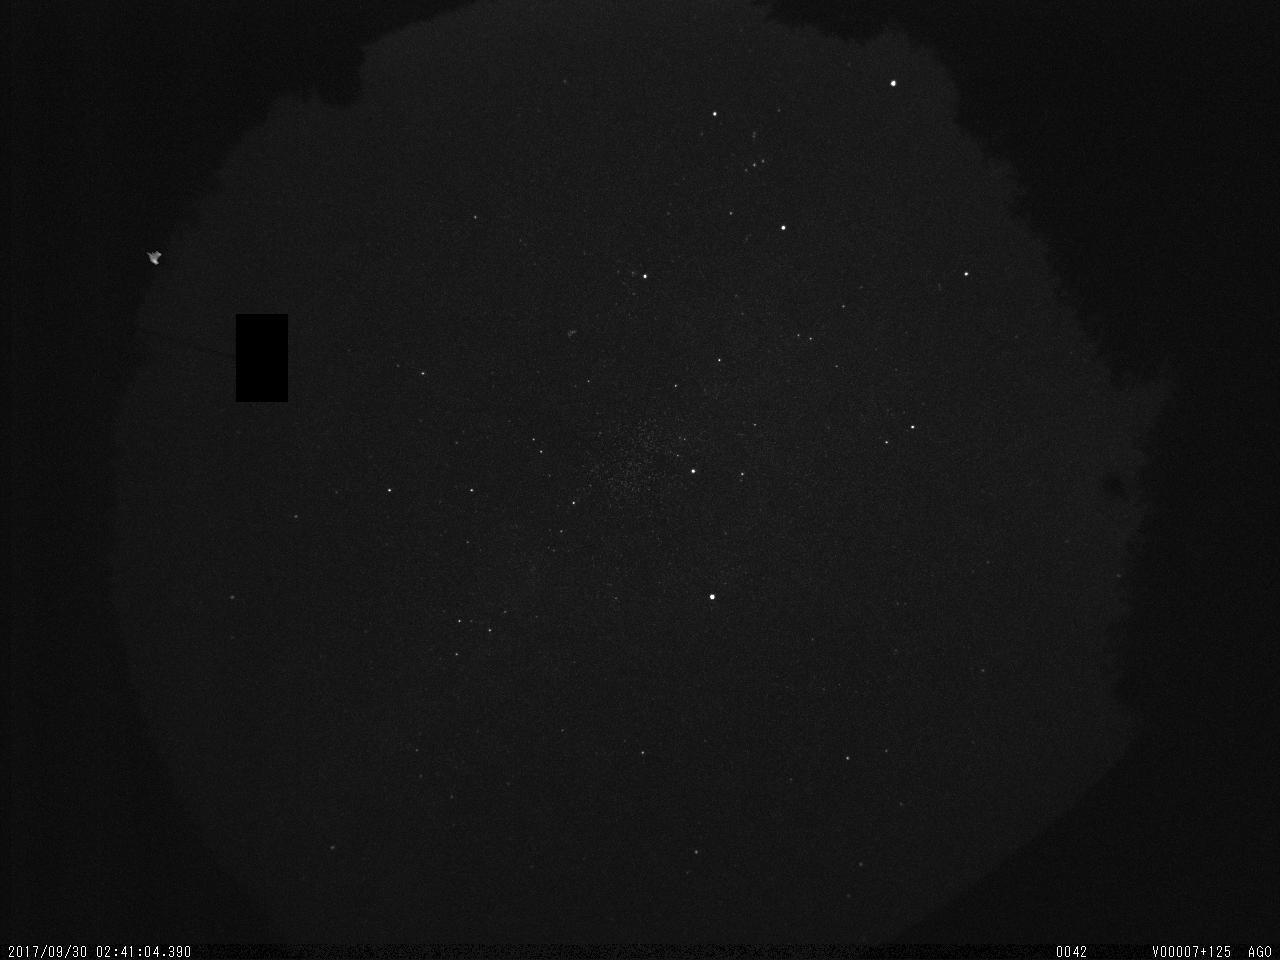TLE: (133, 235, 167, 273)
